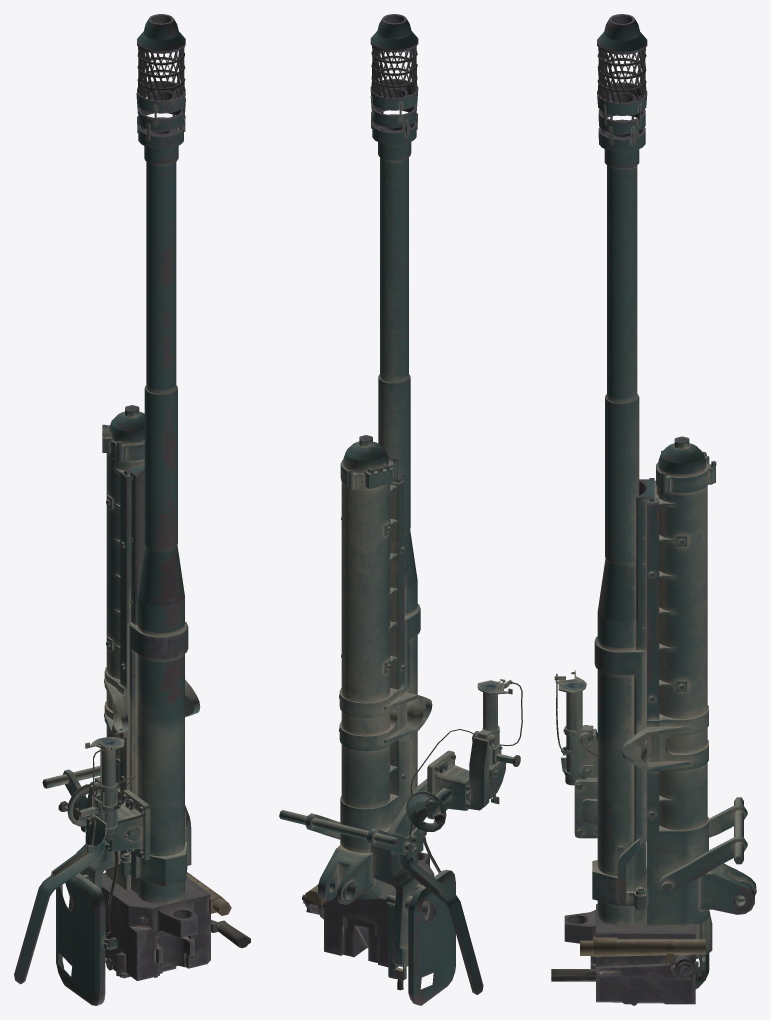
File: Gun_02.glb
The picture shows the model from 3 angles, left to right: view 1: azimuth 30°, elevation 25°; view 2: azimuth 150°, elevation 25°; view 3: azimuth 270°, elevation 25°; orthographic projection. The views are drawn at different scales.
Visible parts, largest first — view 1: set_0_group_0; view 2: set_0_group_0; view 3: set_0_group_0.
Part boxes in pixels (x1,y1,x2,y2): set_0_group_0: (14,14,250,1005); set_0_group_0: (279,14,522,1005); set_0_group_0: (551,14,756,1005).
Size of the model in its own units: 0.6571 by 3.42 by 0.6366.
1 material, 1 textured.
